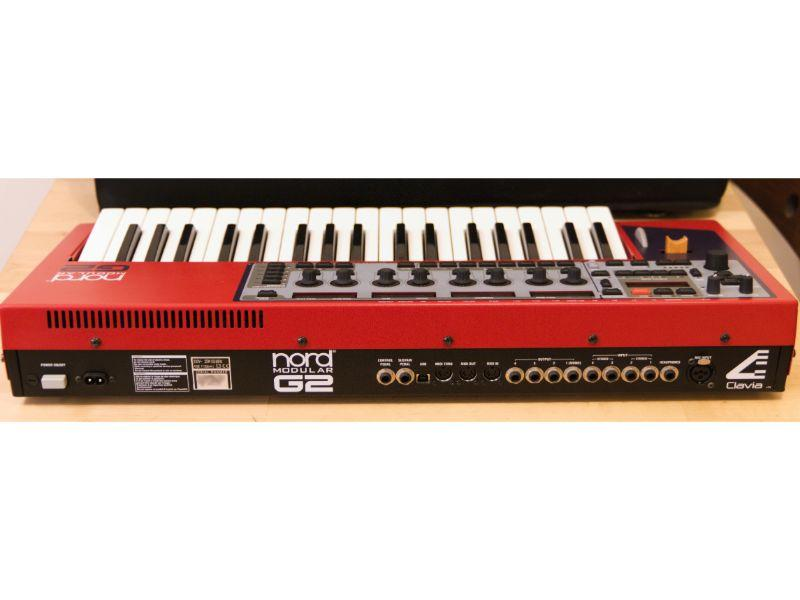synthesizer: (7, 198, 785, 396)
